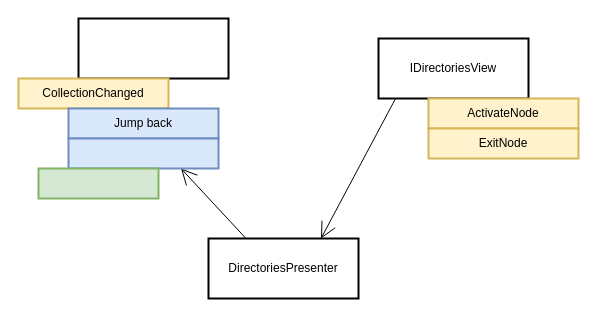
This 596x316 diagram has some shape labels left out. Here are the shapes that lost their labels. From the top down, the centre of each, then its label:
the point at 153,48: IDirectoriesService
the point at 143,153: Enter
the point at 98,183: Items
